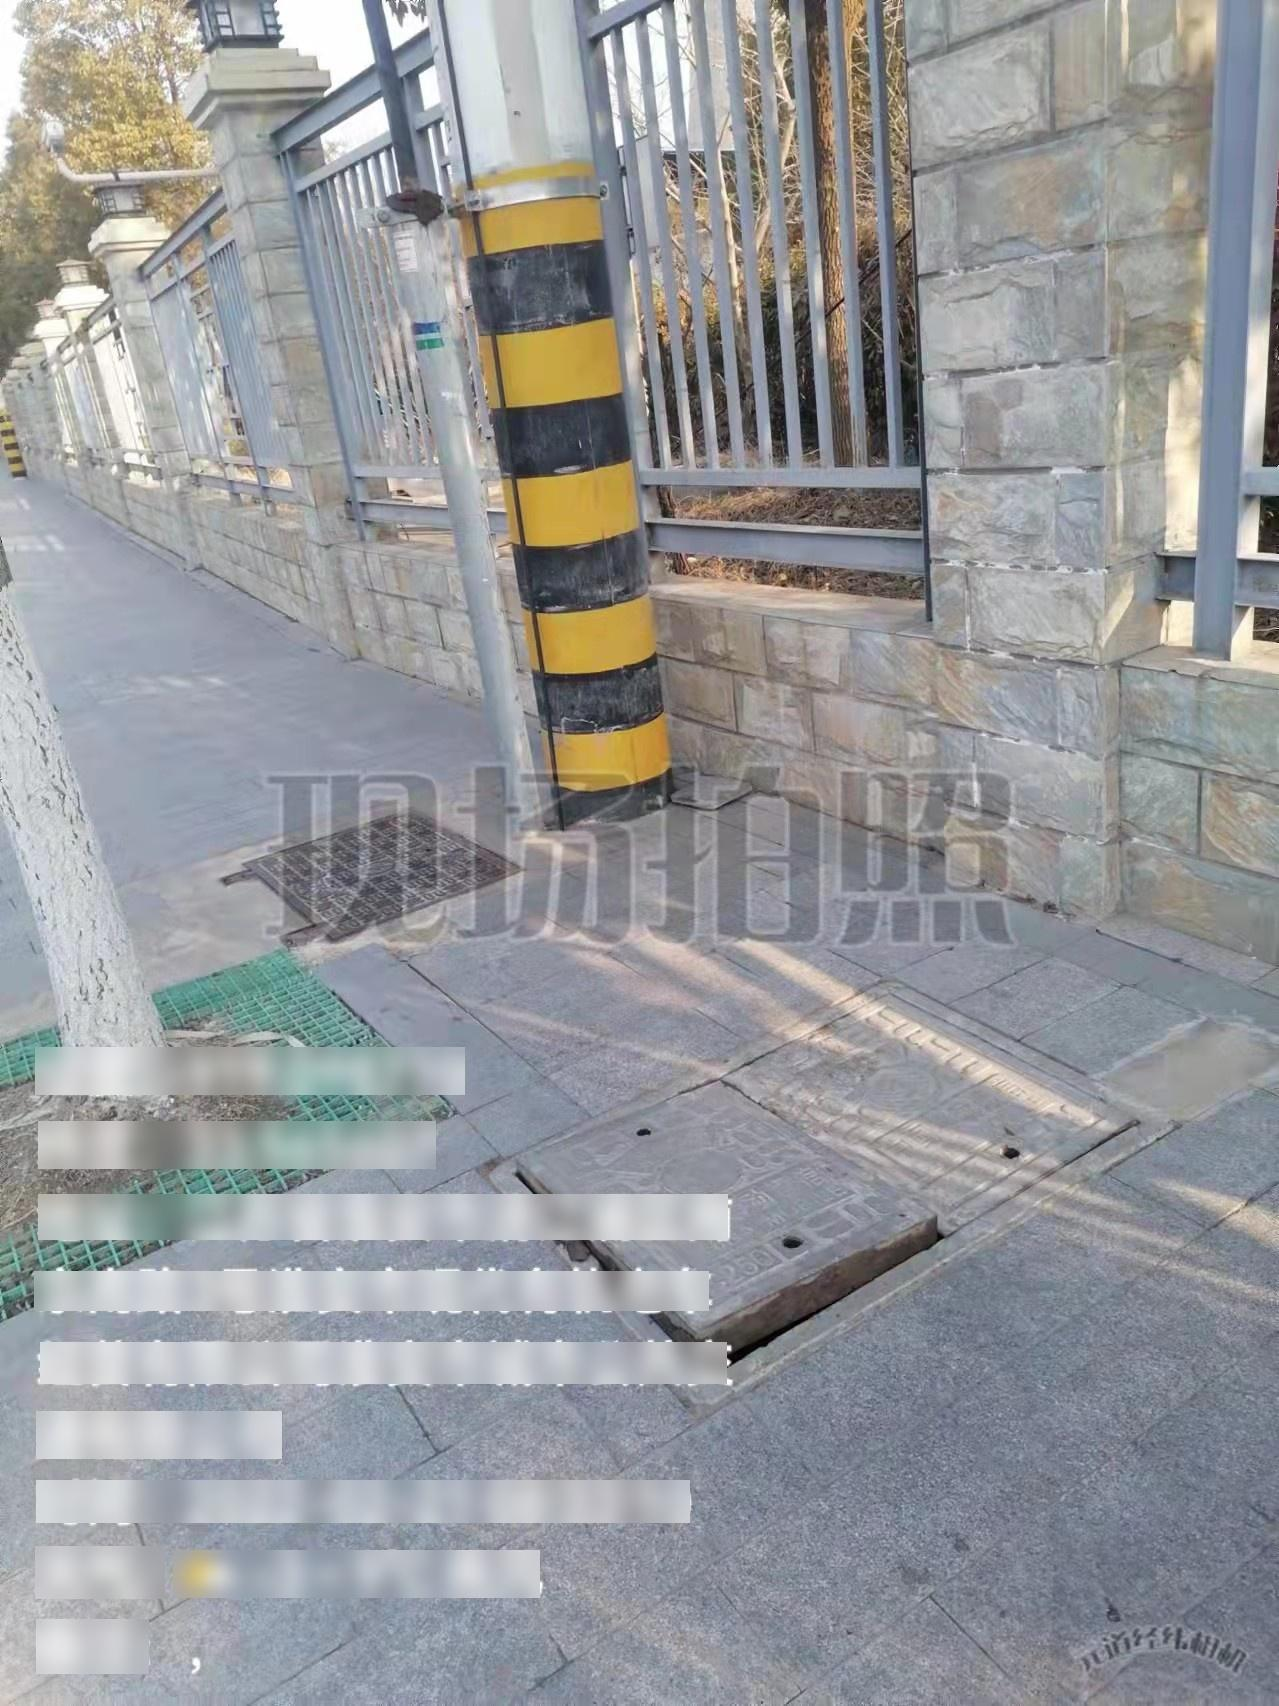wellcover: (504, 981, 1146, 1358), (254, 798, 544, 946)
